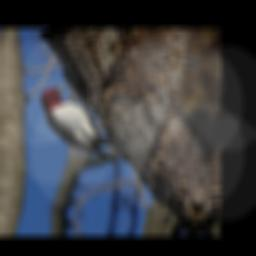Woodpecker: (28, 74, 131, 164)
